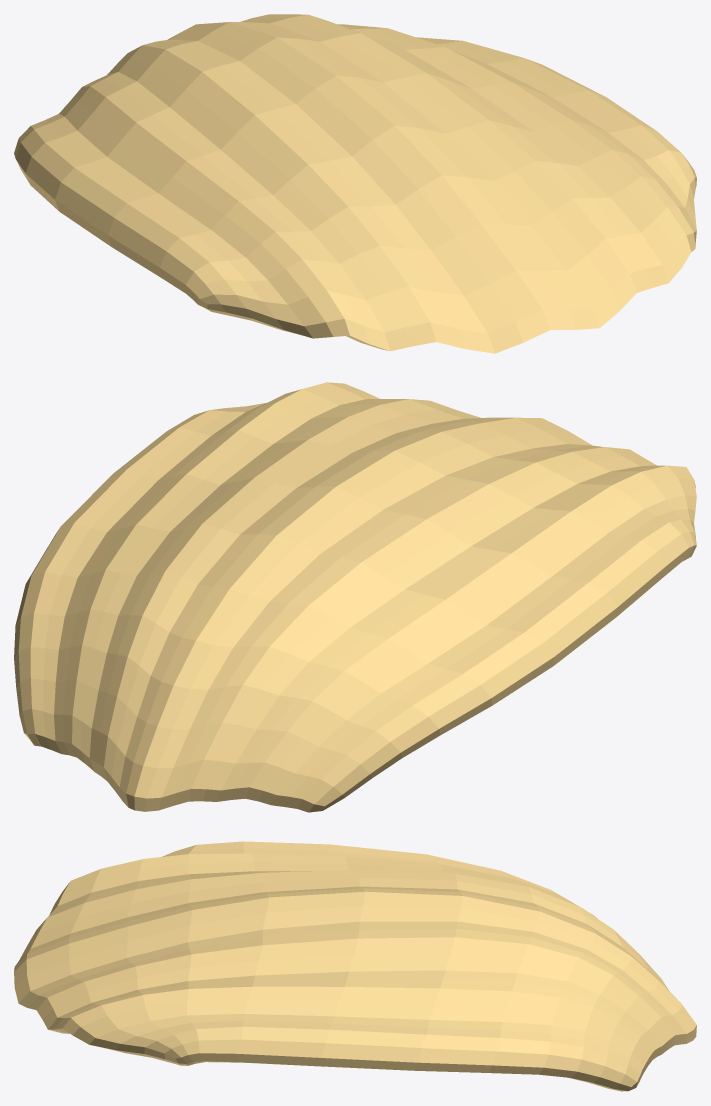
Rendered from Shell 1_001.glb.
The picture shows the model from 3 angles, top to bottom: view 1: azimuth 30°, elevation 25°; view 2: azimuth 150°, elevation 25°; view 3: azimuth 270°, elevation 25°; orthographic projection. The views are drawn at different scales.
Parts seen in each view (by area): view 1: Shell 1_001; view 2: Shell 1_001; view 3: Shell 1_001.
Boxes of the visible parts, x1,y1,x2,y2 form: Shell 1_001: (14, 14, 696, 353); Shell 1_001: (14, 382, 696, 812); Shell 1_001: (14, 841, 696, 1091).
Size of the model in its own units: 0.0862 by 0.0287 by 0.1218.
Materials: 1 (1 with a texture image).
